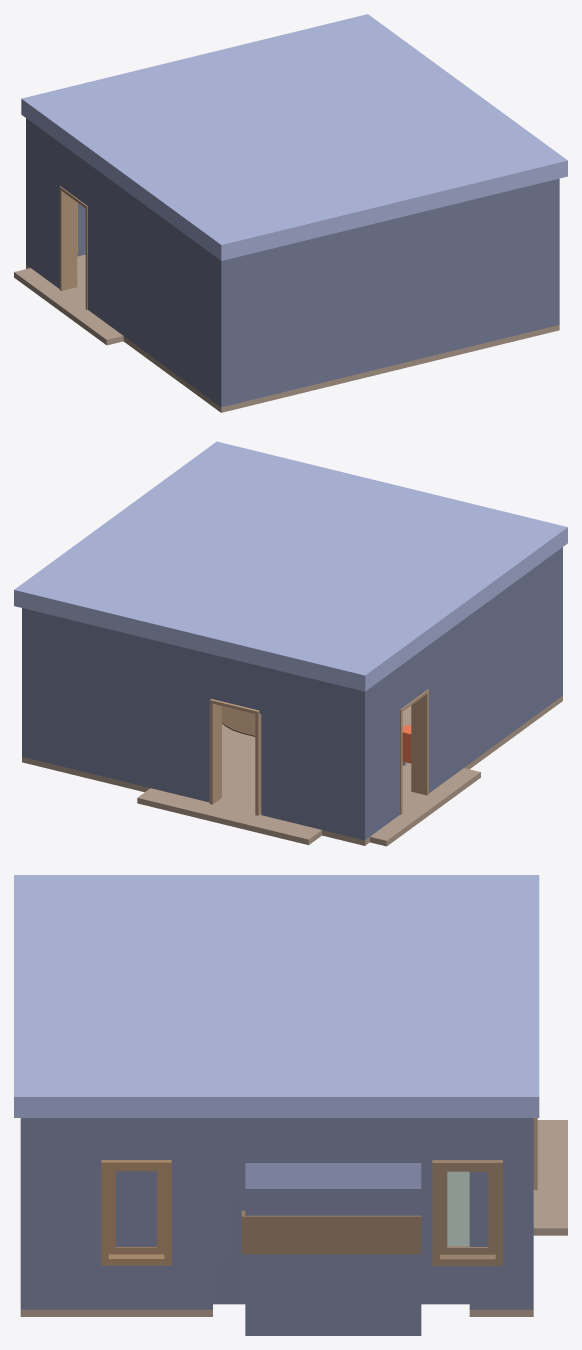
The model's file is Bedroom_JLH.fbx.
3 views of the same model, one above another, from view 1: azimuth 30°, elevation 25°; view 2: azimuth 150°, elevation 25°; view 3: azimuth 270°, elevation 25° (orthographic). The views are drawn at different scales.
Visible parts, largest first — view 1: pCube1, pCube2, doorwayOpen; view 2: pCube1, pCube2, doorwayOpen1, doorwayOpen, rugRounded; view 3: pCube2, pCube1, coatRack, pasted__window, wallWindow, pasted__wallWindow, window.
Boxes of the visible parts, x1,y1,x2,y2 form: pCube1: (14,118,559,412); pCube2: (21,14,567,260); doorwayOpen: (59,186,87,309); pCube1: (22,547,562,846); pCube2: (14,441,567,691); doorwayOpen1: (209,699,261,815); doorwayOpen: (400,689,428,814); rugRounded: (222,706,255,736); pCube2: (14,875,539,1117); pCube1: (20,1118,567,1335); coatRack: (241,1210,421,1254); pasted__window: (440,1169,495,1254); wallWindow: (101,1160,171,1265); pasted__wallWindow: (432,1160,502,1265); window: (108,1169,164,1254).
Bounding box in the file's own units: 4044 × 1656 × 3719.
